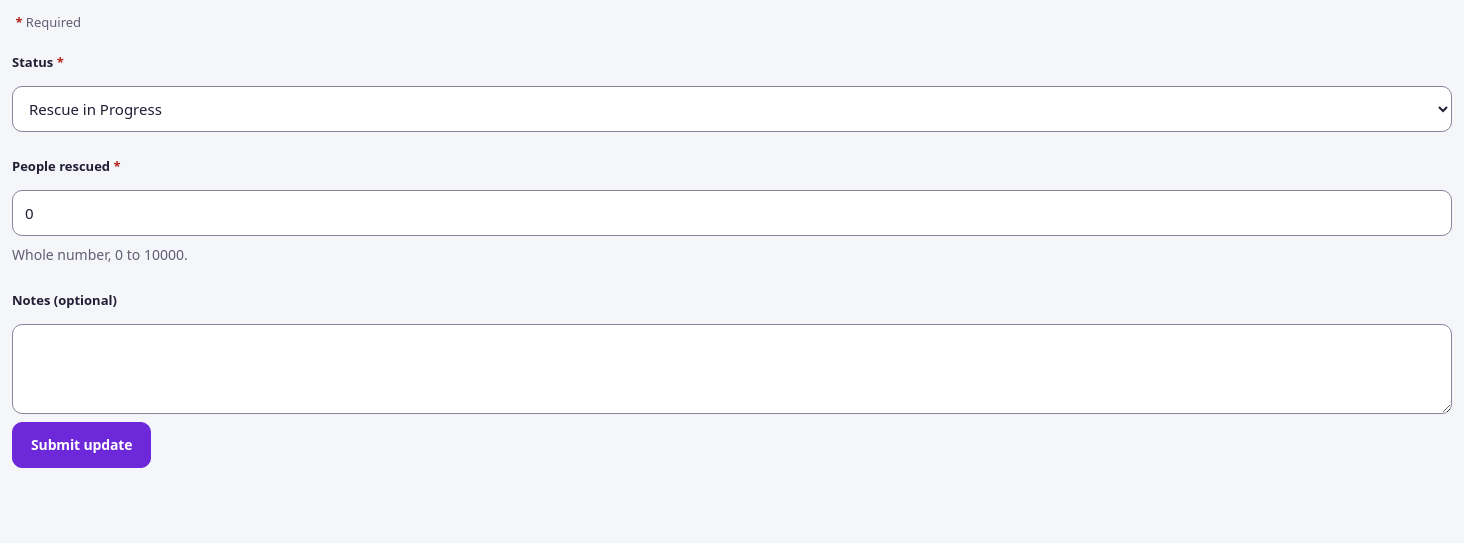
OperationForm › keeps a note typed while the post is pending after the post succeeds
Step 1. Type "Family moved" into the text box labelled "Notes (optional)" → (732, 369), box x1=12 y1=324 x2=1452 y2=414
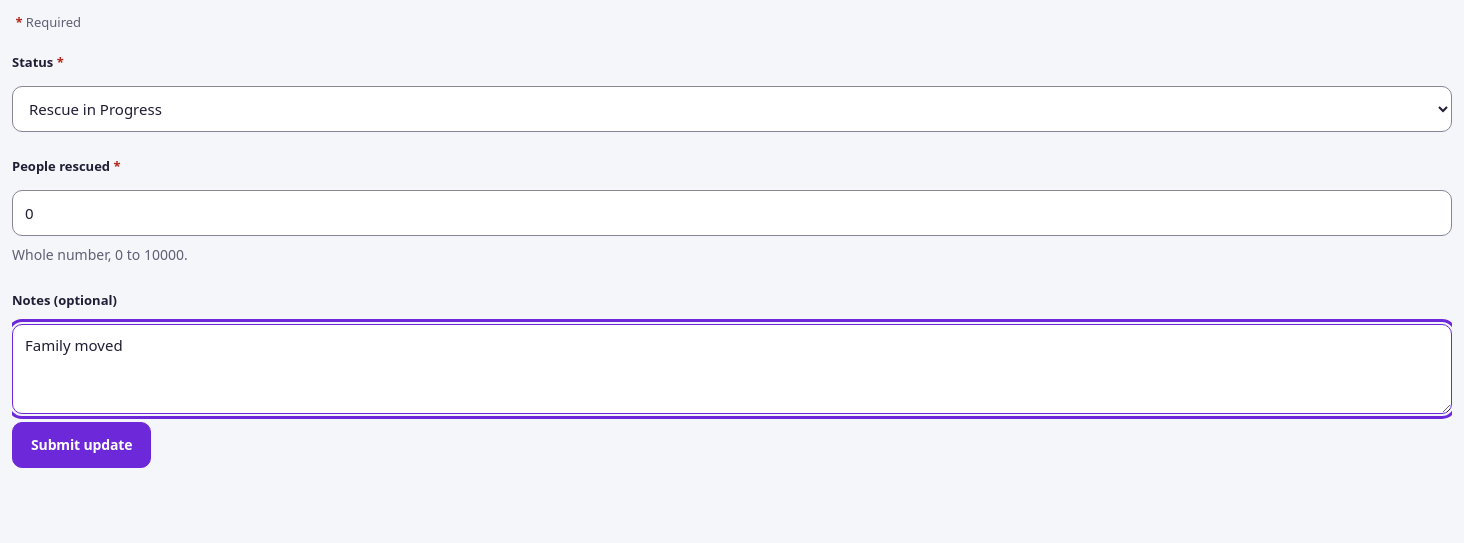
Step 2. Click the button "Submit update" → click(82, 445), box x1=12 y1=422 x2=151 y2=468
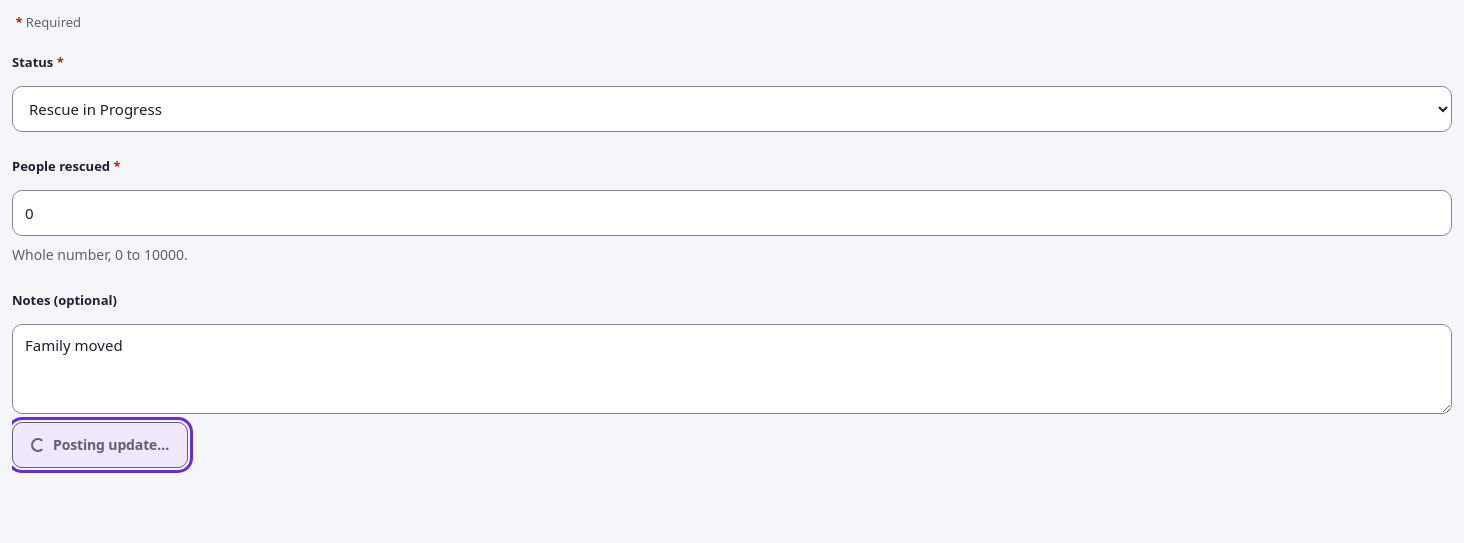
Check: the button "Posting update…" is shown, box x1=12 y1=422 x2=188 y2=468
Step 3. Type " to the shelter" into the text box labelled "Notes (optional)" → (732, 369), box x1=12 y1=324 x2=1452 y2=414
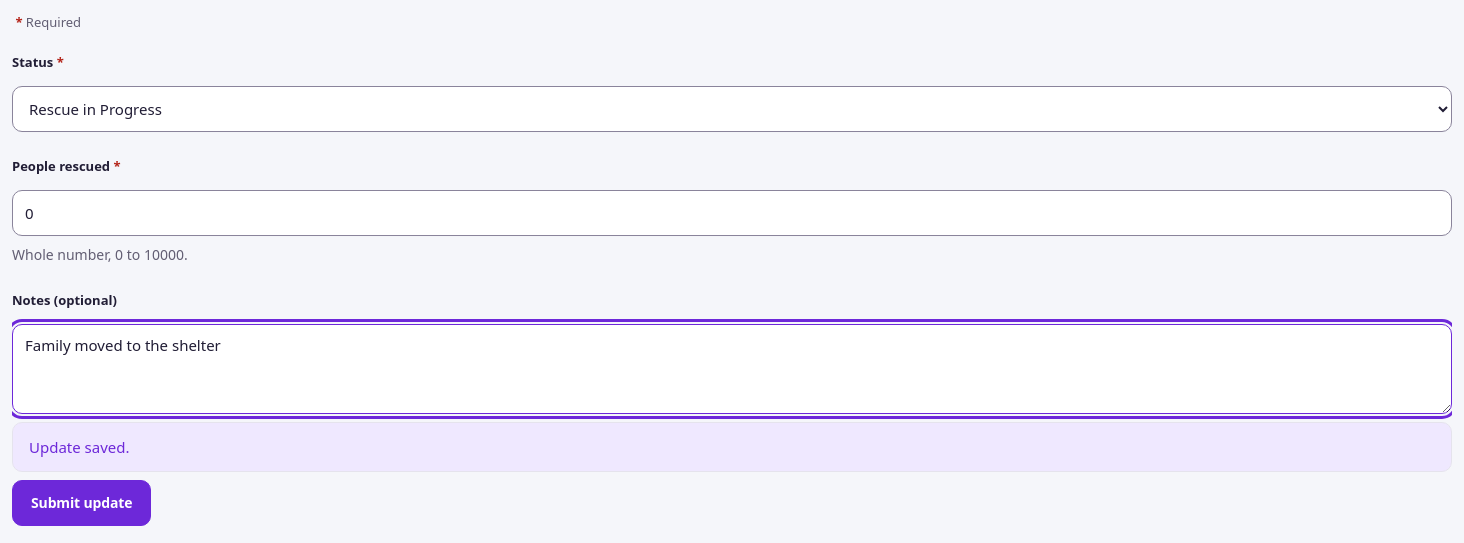
Check: the message reads "Update saved.", box x1=29 y1=437 x2=130 y2=457
Check: the text box labelled "Notes (optional)" holds "Family moved to the shelter", box x1=12 y1=324 x2=1452 y2=414
